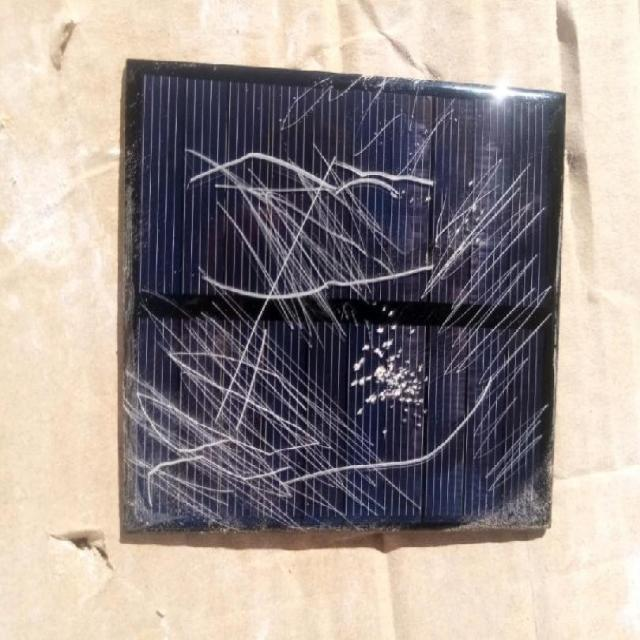faulty: (133, 74, 557, 542)
